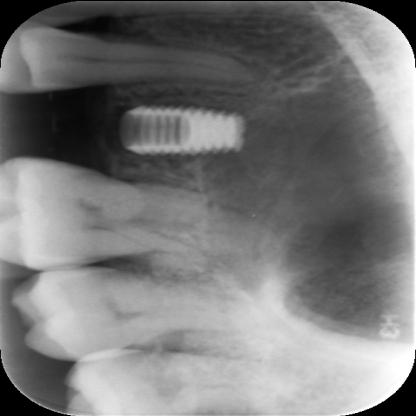Bicon: (116, 100, 250, 158)
